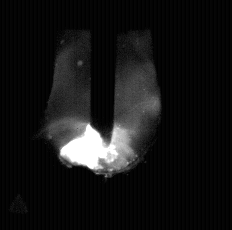arame: (91, 0, 115, 146)
poca: (46, 0, 157, 230)
